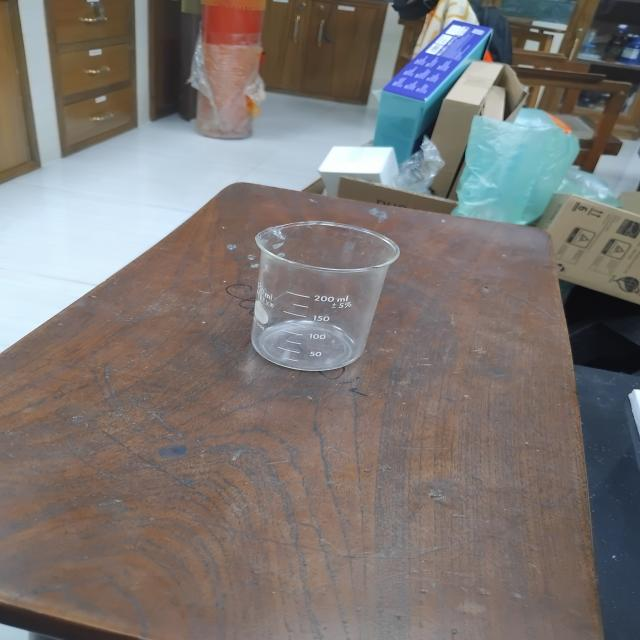Beaker: (225, 188, 417, 396)
